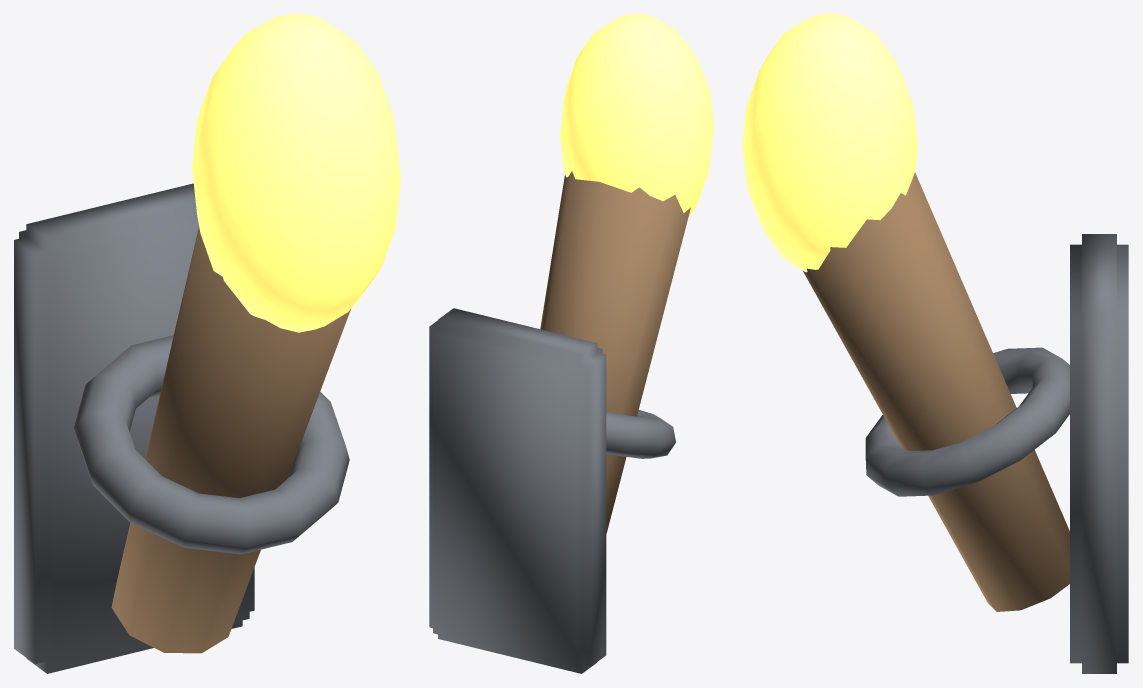
The model's file is wall-sconce.glb.
3 views of the same model, side by side, from view 1: azimuth 30°, elevation 25°; view 2: azimuth 150°, elevation 25°; view 3: azimuth 270°, elevation 25° (orthographic). The views are drawn at different scales.
Parts seen in each view (by area): view 1: WallSconce; view 2: WallSconce; view 3: WallSconce.
Boxes of the visible parts, x1,y1,x2,y2 form: WallSconce: [14, 14, 400, 673]; WallSconce: [429, 14, 713, 673]; WallSconce: [742, 14, 1128, 673].
Size of the model in its own units: 0.2 by 0.58 by 0.33.
